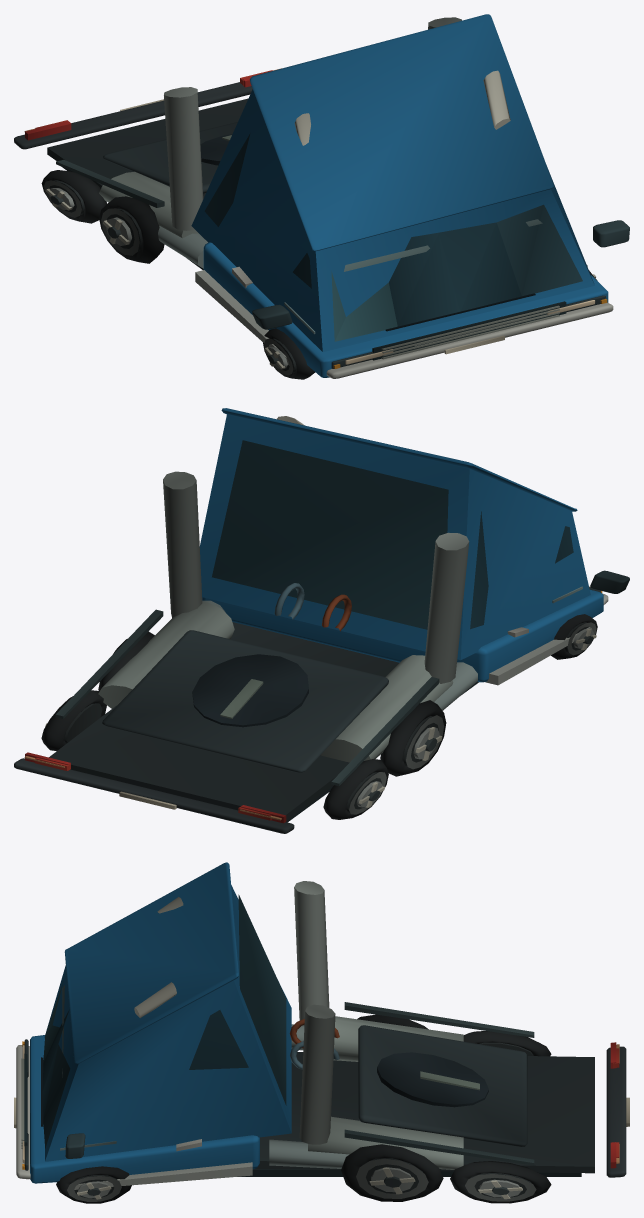
The model's file is roadtrain_cab.glb.
The picture shows the model from 3 angles, top to bottom: view 1: azimuth 30°, elevation 25°; view 2: azimuth 150°, elevation 25°; view 3: azimuth 270°, elevation 25°; orthographic projection. The views are drawn at different scales.
Visible parts, largest first — view 1: roadtrain_body; view 2: roadtrain_body; view 3: roadtrain_body.
Part boxes in pixels (x1=…): roadtrain_body: x1=14, y1=14, x2=629, y2=379; roadtrain_body: x1=14, y1=408, x2=629, y2=833; roadtrain_body: x1=14, y1=862, x2=629, y2=1203.
Bounding box in the file's own units: 3.12 × 1.9 × 4.75.
